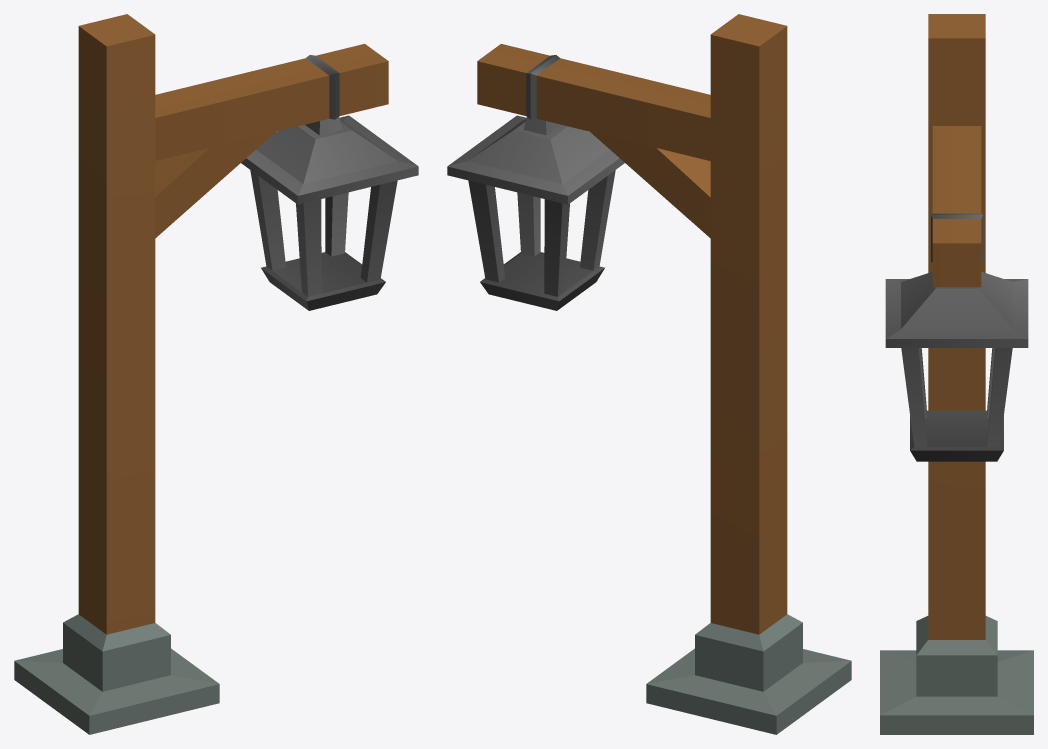
File: Lamp_Post_01.fbx
The picture shows the model from 3 angles, left to right: view 1: azimuth 30°, elevation 25°; view 2: azimuth 150°, elevation 25°; view 3: azimuth 270°, elevation 25°; orthographic projection. The views are drawn at different scales.
Visible parts, largest first — view 1: Lamp_Post_01, Lamp, Lamp_Post_01.001, Lamp_Post_01.002; view 2: Lamp_Post_01, Lamp, Lamp_Post_01.001, Lamp_Post_01.002; view 3: Lamp_Post_01, Lamp, Lamp_Post_01.001.
Part boxes in pixels (x1,y1,x2,y2): Lamp_Post_01: (14,14,219,734); Lamp: (241,115,418,310); Lamp_Post_01.001: (155,44,388,160); Lamp_Post_01.002: (155,132,275,238); Lamp_Post_01: (646,14,851,734); Lamp: (447,115,624,310); Lamp_Post_01.001: (477,44,710,160); Lamp_Post_01.002: (590,132,710,238); Lamp_Post_01: (880,14,1033,734); Lamp: (885,271,1028,461); Lamp_Post_01.001: (931,126,982,287).
Bounding box in the file's own units: 1.61 × 3.07 × 0.6327.
